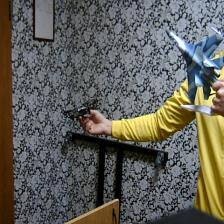drone: (60, 88, 99, 124)
